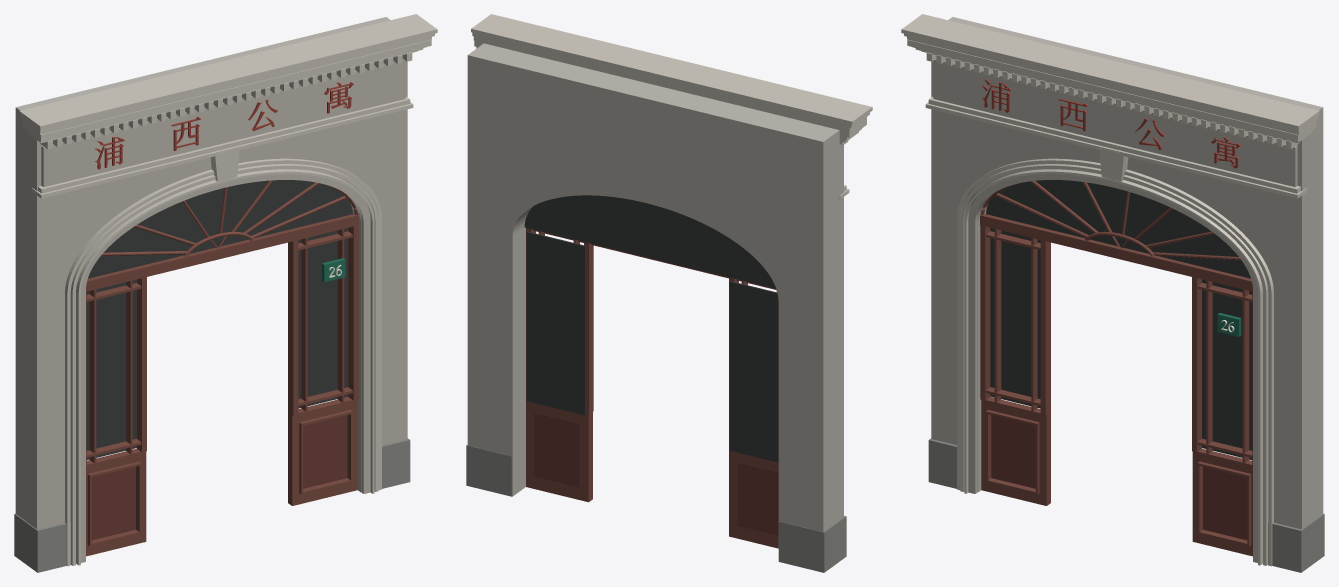
File: hongkou-pearce-apartments-panlong-portal-raw.glb
3 views of the same model, side by side, from view 1: azimuth 30°, elevation 25°; view 2: azimuth 150°, elevation 25°; view 3: azimuth 330°, elevation 25° (orthographic). The views are drawn at different scales.
Visible parts, largest first — view 1: 浦西公寓蟠龙街26号题名券门; view 2: 浦西公寓蟠龙街26号题名券门; view 3: 浦西公寓蟠龙街26号题名券门.
Boxes of the visible parts, box(x1,y1,x2,y2) form: 浦西公寓蟠龙街26号题名券门: box(14, 14, 437, 572); 浦西公寓蟠龙街26号题名券门: box(466, 14, 872, 572); 浦西公寓蟠龙街26号题名券门: box(901, 14, 1324, 572).
Bounding box in the file's own units: 4.24 × 4.7 × 0.705.
